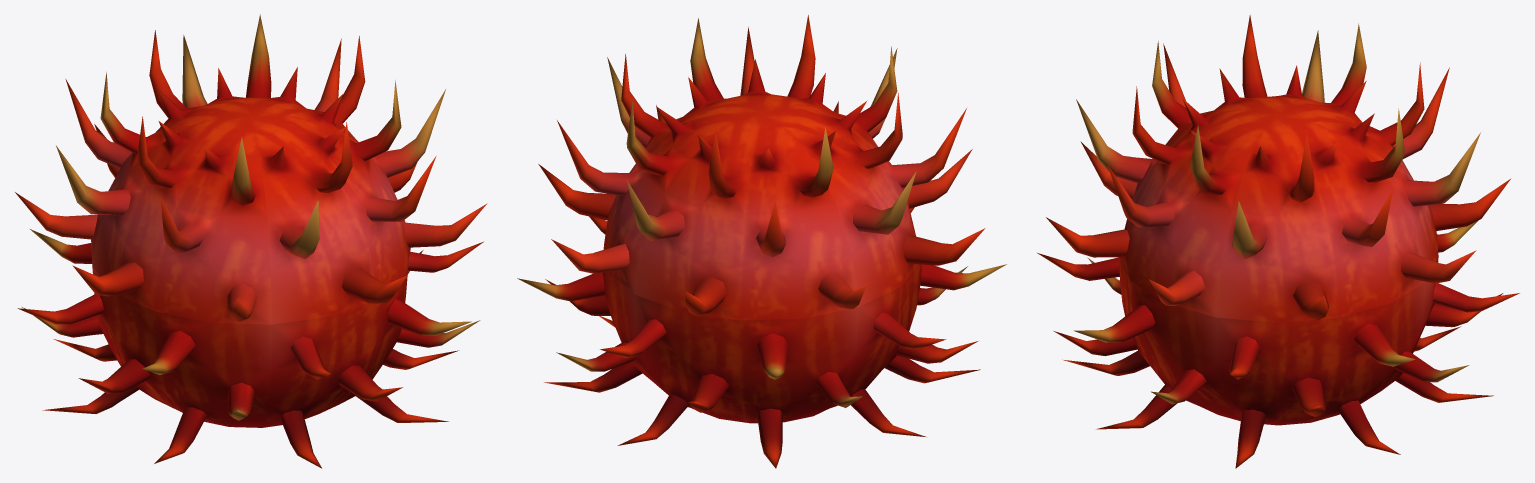
The model's file is Rambutan_Halfed.fbx.
The picture shows the model from 3 angles, left to right: view 1: azimuth 30°, elevation 25°; view 2: azimuth 150°, elevation 25°; view 3: azimuth 270°, elevation 25°; orthographic projection.
Parts seen in each view (by area): view 1: Rambutan_Half_Top, Rambutan_Half_Bottom; view 2: Rambutan_Half_Top, Rambutan_Half_Bottom; view 3: Rambutan_Half_Top, Rambutan_Half_Bottom.
Part boxes in pixels (bbox=[...]): Rambutan_Half_Top: bbox=[15, 14, 487, 324]; Rambutan_Half_Bottom: bbox=[17, 229, 483, 468]; Rambutan_Half_Top: bbox=[538, 15, 985, 320]; Rambutan_Half_Bottom: bbox=[517, 207, 1006, 468]; Rambutan_Half_Top: bbox=[1046, 15, 1510, 322]; Rambutan_Half_Bottom: bbox=[1037, 220, 1519, 468].
Bounding box in the file's own units: 38.95 × 29.35 × 39.12.
